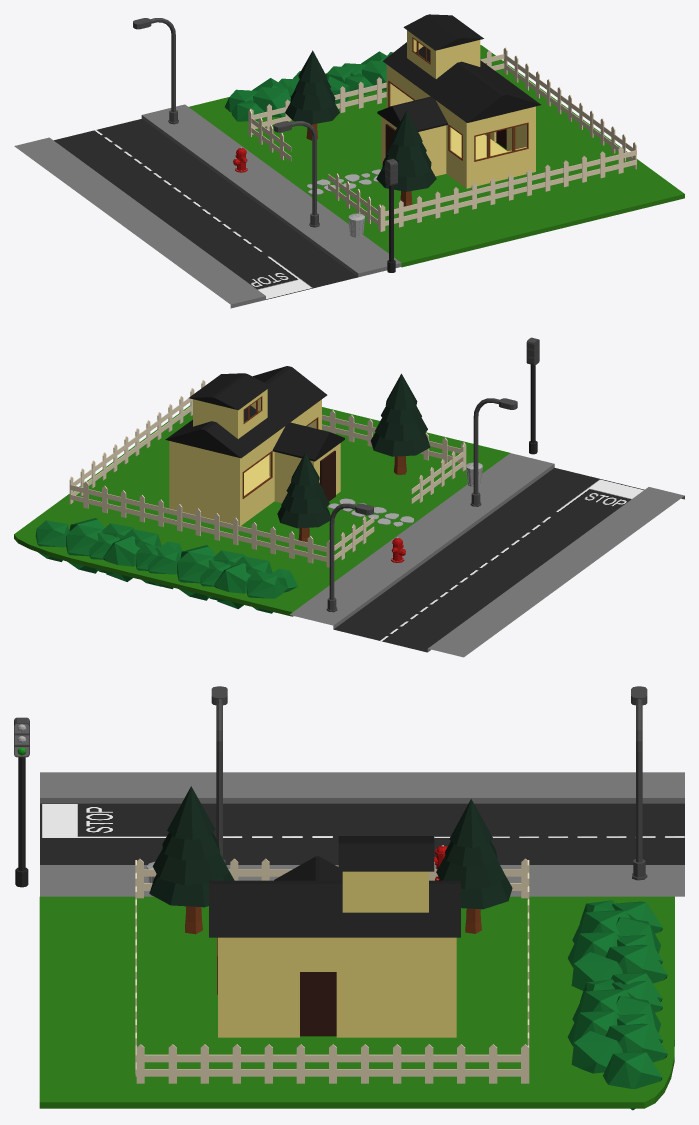
File: house.glb
The picture shows the model from 3 angles, top to bottom: view 1: azimuth 30°, elevation 25°; view 2: azimuth 150°, elevation 25°; view 3: azimuth 270°, elevation 25°; orthographic projection. The views are drawn at different scales.
Parts seen in each view (by area): view 1: Plane.011_Multicolor_0.001, Strada.083_Strada_0.001, Strada.113_Strada_0.001, Casa.004_Multicolor_0.001, Staccionata.009_Multicolor_0.001, Tetto_casa.001_Multicolor_0.001, Cone_Multicolor_0.001, Cone.001_Multicolor_0.001, Staccionata.011_Multicolor_0.001, Piano sopra_Multicolor_0.001, Tetto_sopra_Multicolor_0.001, Cylinder.013_Multicolor_0.002 (+6 smaller); view 2: Plane.011_Multicolor_0.001, Strada.083_Strada_0.001, Strada.113_Strada_0.001, Casa.004_Multicolor_0.001, Staccionata.009_Multicolor_0.001, Tetto_casa.001_Multicolor_0.001, Cone_Multicolor_0.001, Cone.001_Multicolor_0.001, Staccionata.011_Multicolor_0.001, Cylinder.013_Multicolor_0.002, Piano sopra_Multicolor_0.001, Tetto_sopra_Multicolor_0.001 (+15 smaller); view 3: Plane.011_Multicolor_0.001, Strada.113_Strada_0.001, Strada.083_Strada_0.001, Casa.004_Multicolor_0.001, Tetto_casa.001_Multicolor_0.001, Staccionata.011_Multicolor_0.001, Cone_Multicolor_0.001, Cone.001_Multicolor_0.001, Piano sopra_Multicolor_0.001, Tetto_sopra_Multicolor_0.001, Cylinder.013_Multicolor_0.002, Porta_retro.001_Multicolor_0.001 (+17 smaller).
Boxes of the visible parts, box(x1,y1,x2,y2) form: Plane.011_Multicolor_0.001: box(189, 45, 684, 267); Strada.083_Strada_0.001: box(121, 182, 401, 308); Strada.113_Strada_0.001: box(14, 104, 291, 224); Casa.004_Multicolor_0.001: box(381, 64, 535, 188); Staccionata.009_Multicolor_0.001: box(248, 50, 636, 231); Tetto_casa.001_Multicolor_0.001: box(383, 42, 540, 122); Cone_Multicolor_0.001: box(376, 111, 436, 206); Cone.001_Multicolor_0.001: box(285, 50, 339, 140); Staccionata.011_Multicolor_0.001: box(503, 47, 636, 169); Piano sopra_Multicolor_0.001: box(407, 30, 480, 78); Tetto_sopra_Multicolor_0.001: box(403, 14, 483, 50); Cylinder.013_Multicolor_0.002: box(133, 18, 319, 227); Plane.011_Multicolor_0.001: box(14, 405, 509, 616); Strada.083_Strada_0.001: box(399, 453, 684, 577); Strada.113_Strada_0.001: box(289, 535, 572, 657); Casa.004_Multicolor_0.001: box(169, 399, 340, 525); Staccionata.009_Multicolor_0.001: box(70, 410, 465, 567); Tetto_casa.001_Multicolor_0.001: box(165, 366, 327, 458); Cone_Multicolor_0.001: box(370, 373, 430, 474); Cone.001_Multicolor_0.001: box(277, 452, 330, 542); Staccionata.011_Multicolor_0.001: box(69, 380, 205, 504); Cylinder.013_Multicolor_0.002: box(326, 398, 517, 612); Piano sopra_Multicolor_0.001: box(193, 389, 267, 438); Tetto_sopra_Multicolor_0.001: box(189, 373, 270, 410); Plane.011_Multicolor_0.001: box(39, 896, 674, 1108); Strada.113_Strada_0.001: box(366, 772, 684, 896); Strada.083_Strada_0.001: box(40, 772, 369, 896); Casa.004_Multicolor_0.001: box(217, 937, 456, 1037); Tetto_casa.001_Multicolor_0.001: box(209, 880, 460, 937); Staccionata.011_Multicolor_0.001: box(136, 1044, 529, 1083); Cone_Multicolor_0.001: box(149, 786, 234, 934); Cone.001_Multicolor_0.001: box(436, 799, 512, 933); Piano sopra_Multicolor_0.001: box(342, 871, 428, 912); Tetto_sopra_Multicolor_0.001: box(338, 836, 434, 871); Cylinder.013_Multicolor_0.002: box(211, 686, 647, 880); Porta_retro.001_Multicolor_0.001: box(300, 972, 336, 1036).
Bounding box in the file's own units: 22.82 × 6.51 × 19.62.
2 materials, 2 textured.
